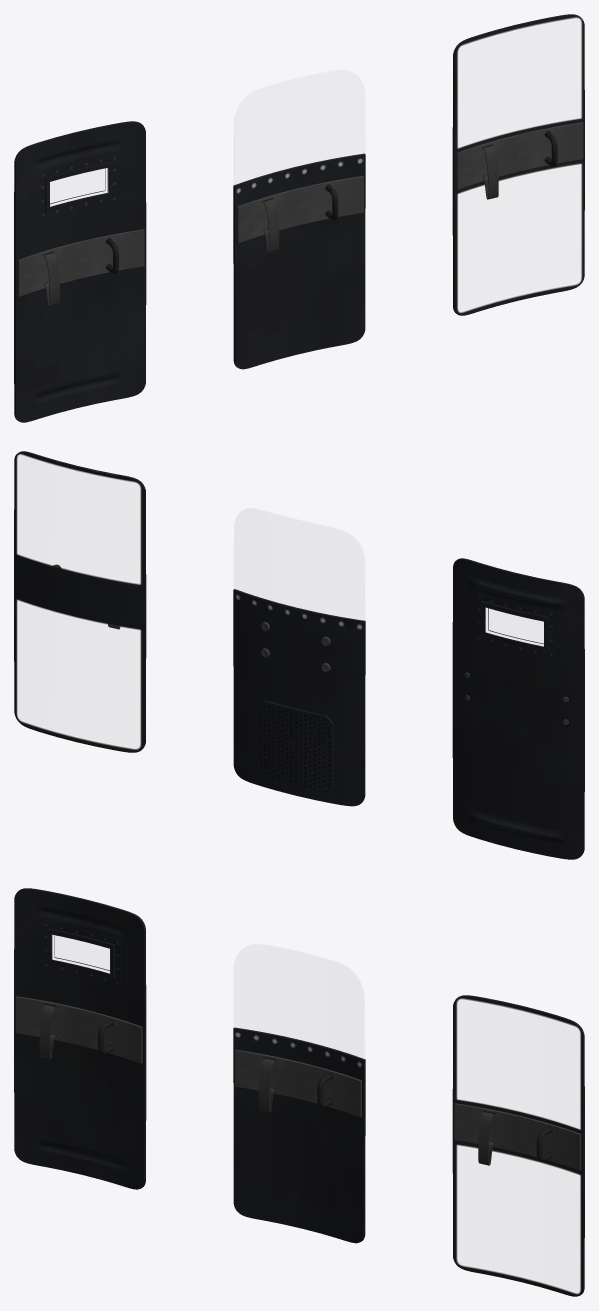
File: riot_shield.3eabdc30d8.glb
3 renders of one model, top to bottom at view 1: azimuth 30°, elevation 25°; view 2: azimuth 150°, elevation 25°; view 3: azimuth 330°, elevation 25°, orthographic.
Visible parts, largest first — view 1: shield_riot1, shield_riot2, shield_riot3; view 2: shield_riot1, shield_riot2, shield_riot3; view 3: shield_riot1, shield_riot2, shield_riot3.
Part boxes in pixels (<box>): shield_riot1: <box>14,121,146,422</box>; shield_riot2: <box>233,153,365,369</box>; shield_riot3: <box>452,14,584,315</box>; shield_riot1: <box>452,558,584,859</box>; shield_riot2: <box>233,589,365,806</box>; shield_riot3: <box>14,451,146,752</box>; shield_riot1: <box>14,888,146,1189</box>; shield_riot2: <box>233,1027,365,1243</box>; shield_riot3: <box>452,995,584,1296</box>.
Bounding box in the file's own units: 2.6 × 1.2 × 0.1143.
1 material, 1 textured.
